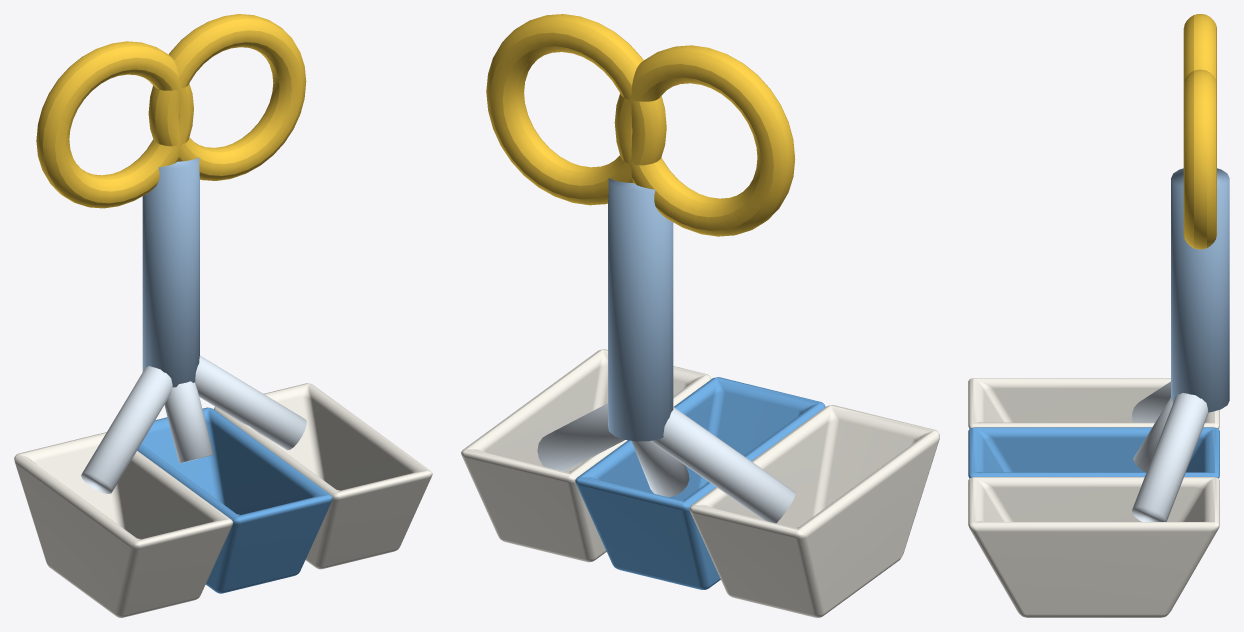
File: pcv_recovery_fragment_scoop.glb
3 renders of one model, left to right at view 1: azimuth 30°, elevation 25°; view 2: azimuth 150°, elevation 25°; view 3: azimuth 270°, elevation 25°, orthographic. The views are drawn at different scales.
Visible parts, largest first — view 1: pcv_recovery_fragment_scoop_MOBILE_JOINED; view 2: pcv_recovery_fragment_scoop_MOBILE_JOINED; view 3: pcv_recovery_fragment_scoop_MOBILE_JOINED.
Boxes of the visible parts, bbox=[...] form: pcv_recovery_fragment_scoop_MOBILE_JOINED: bbox=[14, 14, 432, 617]; pcv_recovery_fragment_scoop_MOBILE_JOINED: bbox=[461, 14, 939, 617]; pcv_recovery_fragment_scoop_MOBILE_JOINED: bbox=[968, 14, 1229, 617].
Bounding box in the file's own units: 0.966 × 1.51 × 0.7135.
